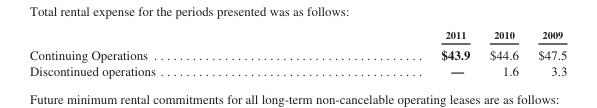table: (28, 28, 566, 77)
table column: (28, 28, 298, 77), (298, 28, 479, 77), (479, 28, 527, 77), (527, 28, 566, 77)
table column header: (28, 28, 566, 43)
table row: (28, 43, 566, 62), (28, 28, 566, 43), (28, 62, 566, 77)
